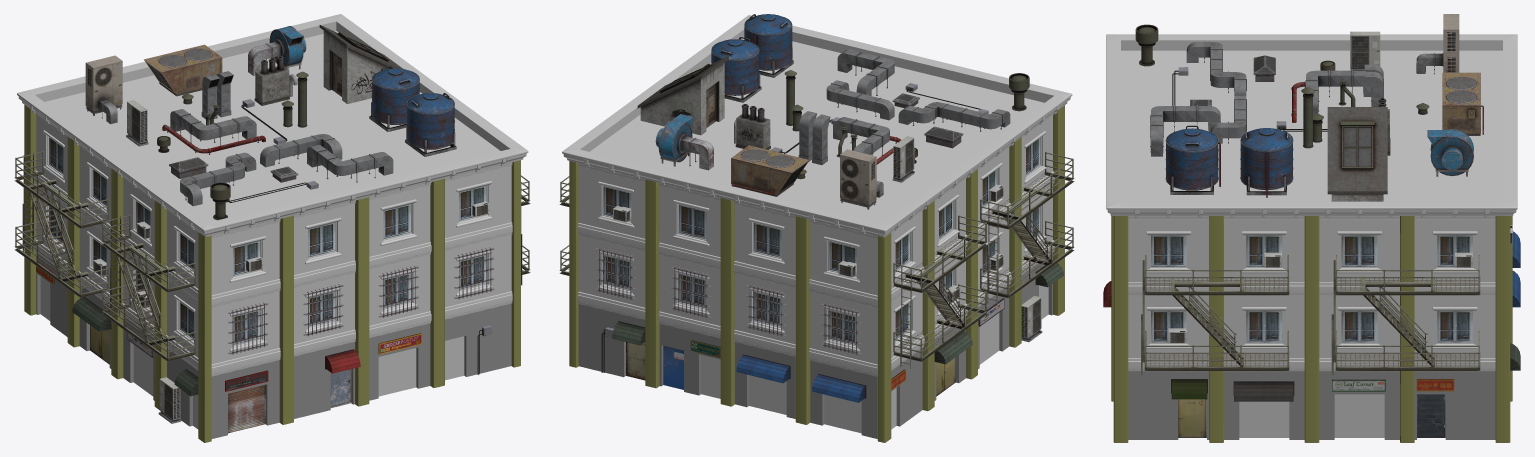
File: Building 7.fbx
3 views of the same model, side by side, from view 1: azimuth 30°, elevation 25°; view 2: azimuth 150°, elevation 25°; view 3: azimuth 270°, elevation 25° (orthographic). The views are drawn at different scales.
Parts seen in each view (by area): view 1: Fire_Stairs_Top (×2), Fire_Stairs_Bottom (×2), Roof_Access_1, Building_Wall_with_Door_A1, Building_Wall_with_Window_D43, Water_Tower_6, Building_Wall_with_Window_D39, Building_Wall_with_Window_D, Building_Wall_with_Window_D5, Building_Wall_with_Door_B, AC_Roof_Unit_1, Building_Wall_with_Window_D38 (+120 smaller); view 2: Fire_Stairs_Top (×2), Fire_Stairs_Bottom (×2), Roof_Access_1, Building_Wall_with_Door_B5, Building_Wall_with_Window_D27, Building_Wall_with_Window_D32, AC_Roof_Unit_1, Building_Wall_with_Window_D16, Building_Wall_with_Window_D11, Building_Wall_with_Window_D30, Building_Wall_with_Window_D29, Building_Wall_with_Window_D12 (+120 smaller); view 3: Fire_Stairs_Top (×2), Fire_Stairs_Bottom (×2), Roof_Access_1, Building_Wall_with_Door_A2, Building_Wall_with_Door_B1, Building_Wall_with_Window_D35, Building_Wall_with_Window_D37, Building_Wall_with_Window_D33, Building_Wall_with_Window_D36, Water_Tower_6, Building_Wall_with_Window_D9, Building_Wall_with_Window_D7 (+90 smaller).
Part boxes in pixels (x1=…): Fire_Stairs_Top (×2): x1=14, y1=151, x2=196, y2=342; Fire_Stairs_Bottom (×2): x1=14, y1=153, x2=196, y2=361; Roof_Access_1: x1=319, y1=25, x2=402, y2=103; Building_Wall_with_Door_A1: x1=445, y1=303, x2=511, y2=376; Building_Wall_with_Window_D43: x1=211, y1=222, x2=279, y2=295; Water_Tower_6: x1=405, y1=93, x2=456, y2=156; Building_Wall_with_Window_D39: x1=445, y1=165, x2=511, y2=238; Building_Wall_with_Window_D: x1=211, y1=291, x2=279, y2=364; Building_Wall_with_Window_D5: x1=445, y1=234, x2=511, y2=307; Building_Wall_with_Door_B: x1=294, y1=342, x2=354, y2=418; AC_Roof_Unit_1: x1=144, y1=44, x2=222, y2=96; Building_Wall_with_Window_D38: x1=369, y1=185, x2=430, y2=256; Fire_Stairs_Top (×2): x1=893, y1=152, x2=1074, y2=326; Fire_Stairs_Bottom (×2): x1=893, y1=202, x2=1074, y2=369; Roof_Access_1: x1=637, y1=56, x2=728, y2=135; Building_Wall_with_Door_B5: x1=578, y1=304, x2=645, y2=377; Building_Wall_with_Window_D27: x1=810, y1=222, x2=877, y2=295; Building_Wall_with_Window_D32: x1=578, y1=166, x2=645, y2=238; AC_Roof_Unit_1: x1=731, y1=145, x2=809, y2=196; Building_Wall_with_Window_D16: x1=810, y1=291, x2=877, y2=364; Building_Wall_with_Window_D11: x1=578, y1=235, x2=645, y2=307; Building_Wall_with_Window_D30: x1=659, y1=186, x2=720, y2=257; Building_Wall_with_Window_D29: x1=735, y1=204, x2=795, y2=275; Building_Wall_with_Window_D12: x1=659, y1=255, x2=720, y2=325; Fire_Stairs_Top (×2): x1=1144, y1=255, x2=1480, y2=366; Fire_Stairs_Bottom (×2): x1=1141, y1=260, x2=1480, y2=375; Roof_Access_1: x1=1327, y1=107, x2=1387, y2=201; Building_Wall_with_Door_A2: x1=1414, y1=371, x2=1495, y2=439; Building_Wall_with_Door_B1: x1=1128, y1=371, x2=1209, y2=439; Building_Wall_with_Window_D35: x1=1414, y1=220, x2=1495, y2=282; Building_Wall_with_Window_D37: x1=1128, y1=220, x2=1209, y2=282; Building_Wall_with_Window_D33: x1=1224, y1=220, x2=1304, y2=282; Building_Wall_with_Window_D36: x1=1319, y1=220, x2=1399, y2=282; Water_Tower_6: x1=1165, y1=125, x2=1220, y2=194; Building_Wall_with_Window_D9: x1=1414, y1=295, x2=1495, y2=357; Building_Wall_with_Window_D7: x1=1224, y1=295, x2=1304, y2=357.
Bounding box in the file's own units: 1928 × 1363 × 1748.
